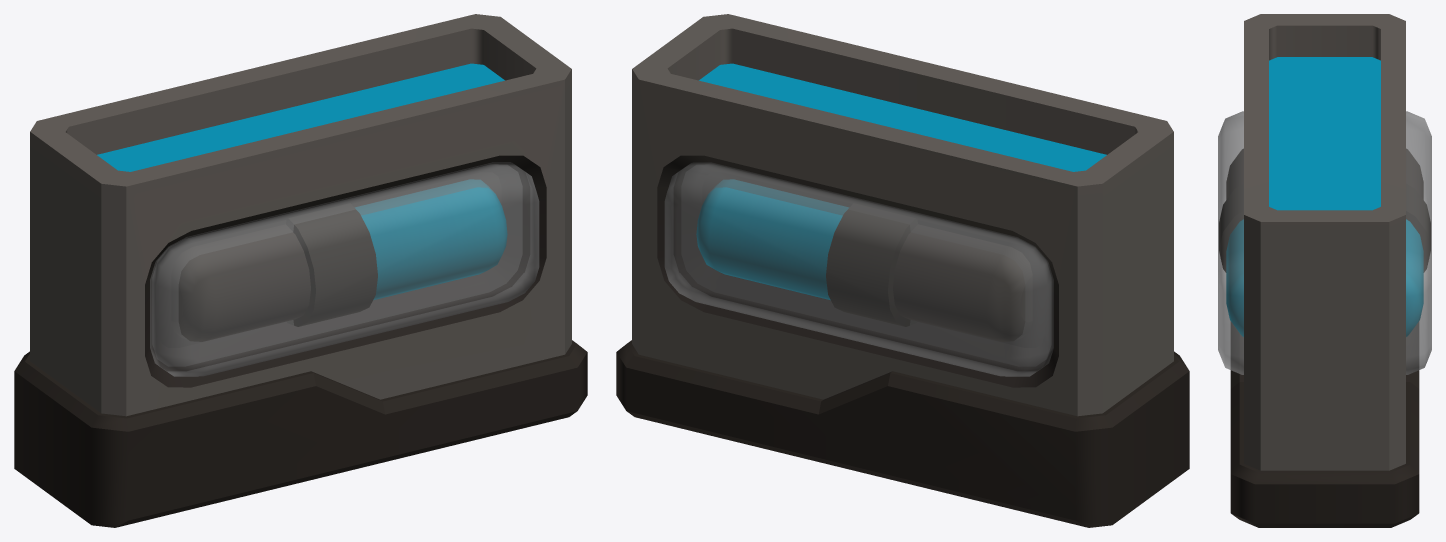
Rendered from AR4_Magazine.fbx.
3 views of the same model, side by side, from view 1: azimuth 30°, elevation 25°; view 2: azimuth 150°, elevation 25°; view 3: azimuth 270°, elevation 25° (orthographic). The views are drawn at different scales.
Visible parts, largest first — view 1: AR4_Magazine; view 2: AR4_Magazine; view 3: AR4_Magazine.
Part boxes in pixels (x1,y1,x2,y2): AR4_Magazine: (14, 14, 587, 527); AR4_Magazine: (616, 14, 1189, 527); AR4_Magazine: (1218, 14, 1431, 527).
Bounding box in the file's own units: 10.51 × 6.81 × 4.34.
